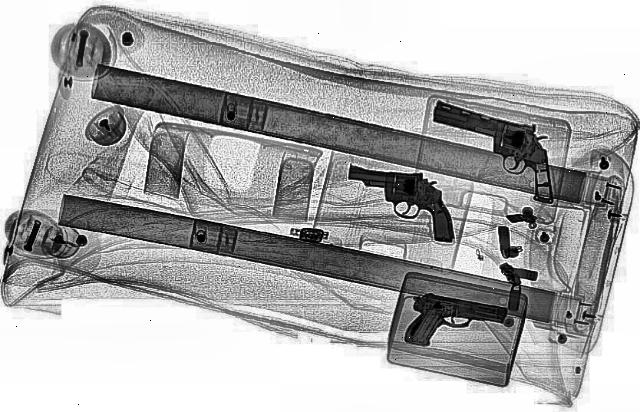Gun: (392, 100, 598, 204), (327, 165, 473, 241), (395, 290, 513, 358)
